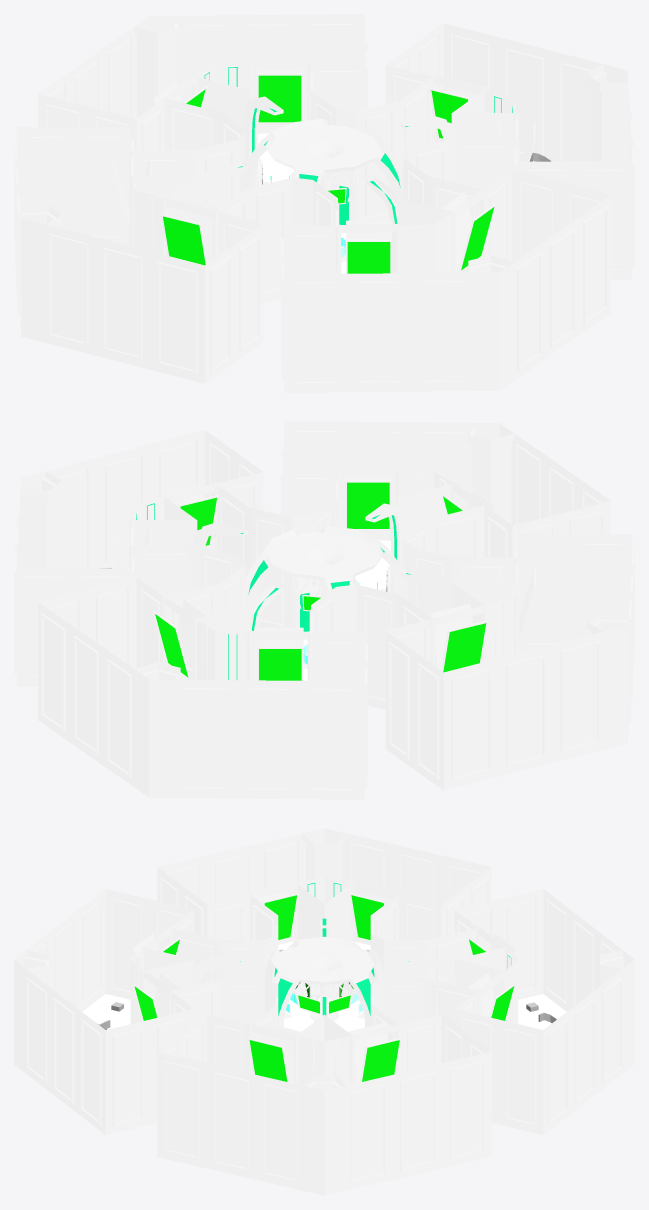
File: hall1.glb
The picture shows the model from 3 angles, top to bottom: view 1: azimuth 30°, elevation 25°; view 2: azimuth 150°, elevation 25°; view 3: azimuth 270°, elevation 25°; orthographic projection. The views are drawn at different scales.
Visible parts, largest first — view 1: Circle, PanelDisplayA4, PanelDisplayD1, PanelDisplayC3, PanelDisplayC1, PanelDisplayB4; view 2: Circle, PanelDisplayD3, PanelDisplayA2, PanelDisplayA1, PanelDisplayB3; view 3: Circle, PanelDisplayB2, PanelDisplayB1, PanelDisplayD4, PanelDisplayD2.
Boxes of the visible parts, box(x1,y1,x2,y2) form: Circle: box(14, 14, 634, 392); PanelDisplayA4: box(258, 75, 301, 122); PanelDisplayD1: box(163, 216, 205, 265); PanelDisplayC3: box(347, 242, 390, 273); PanelDisplayC1: box(461, 207, 494, 270); PanelDisplayB4: box(431, 90, 467, 138); Circle: box(14, 421, 634, 799); PanelDisplayD3: box(443, 623, 486, 672); PanelDisplayA2: box(259, 649, 301, 680); PanelDisplayA1: box(155, 614, 188, 677); PanelDisplayB3: box(180, 497, 216, 545); Circle: box(14, 828, 634, 1195); PanelDisplayB2: box(249, 1040, 287, 1081); PanelDisplayB1: box(362, 1040, 399, 1081); PanelDisplayD4: box(351, 895, 383, 939); PanelDisplayD2: box(264, 895, 296, 939).
Size of what is drawn, in the model's own units: 135 by 26.91 by 135.
